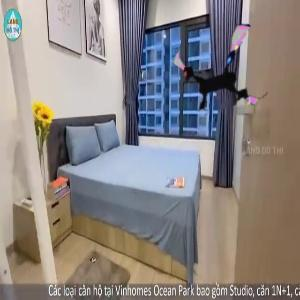drone: (170, 18, 276, 124)
